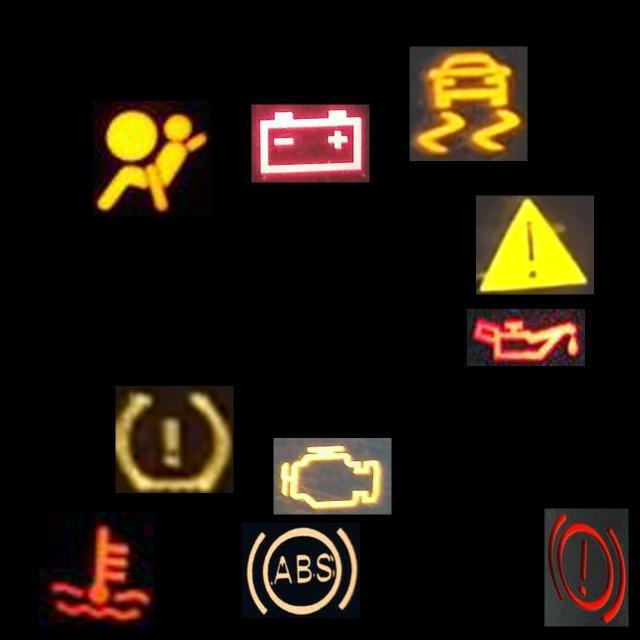Central Warning lamp: (476, 196, 594, 294)
Engine cooling system: (39, 512, 157, 630)
